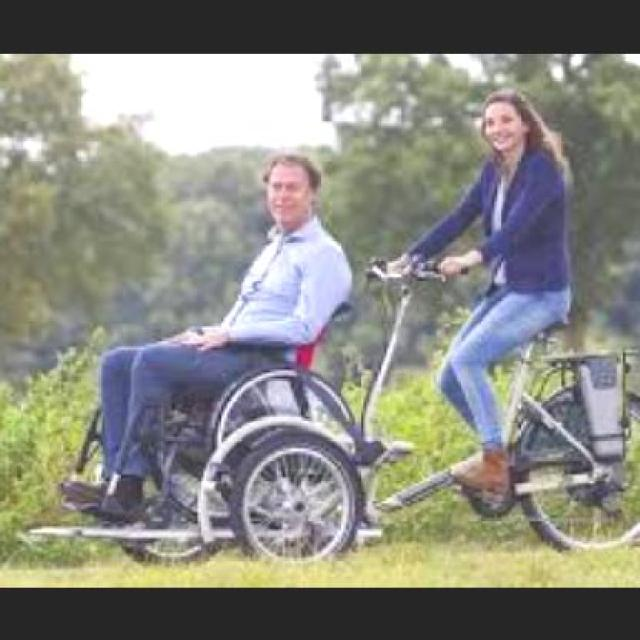wheelchairs: (57, 300, 361, 573)
